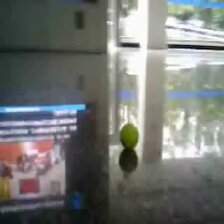tennis: (119, 124, 139, 148)
